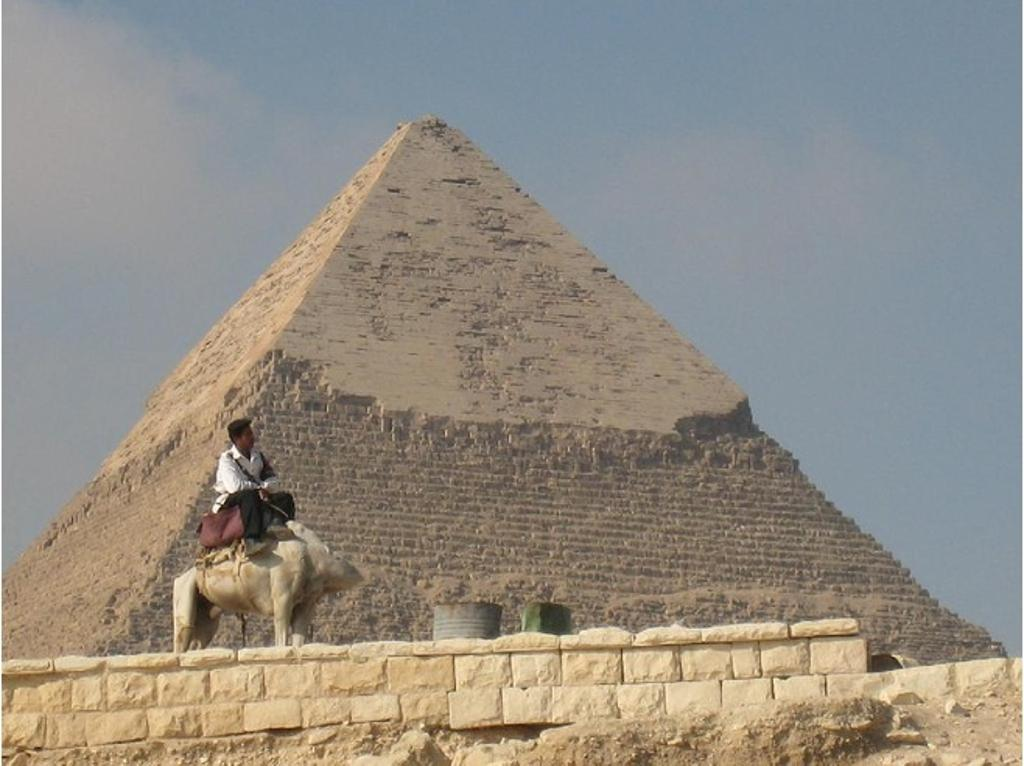face: (238, 425, 254, 447)
